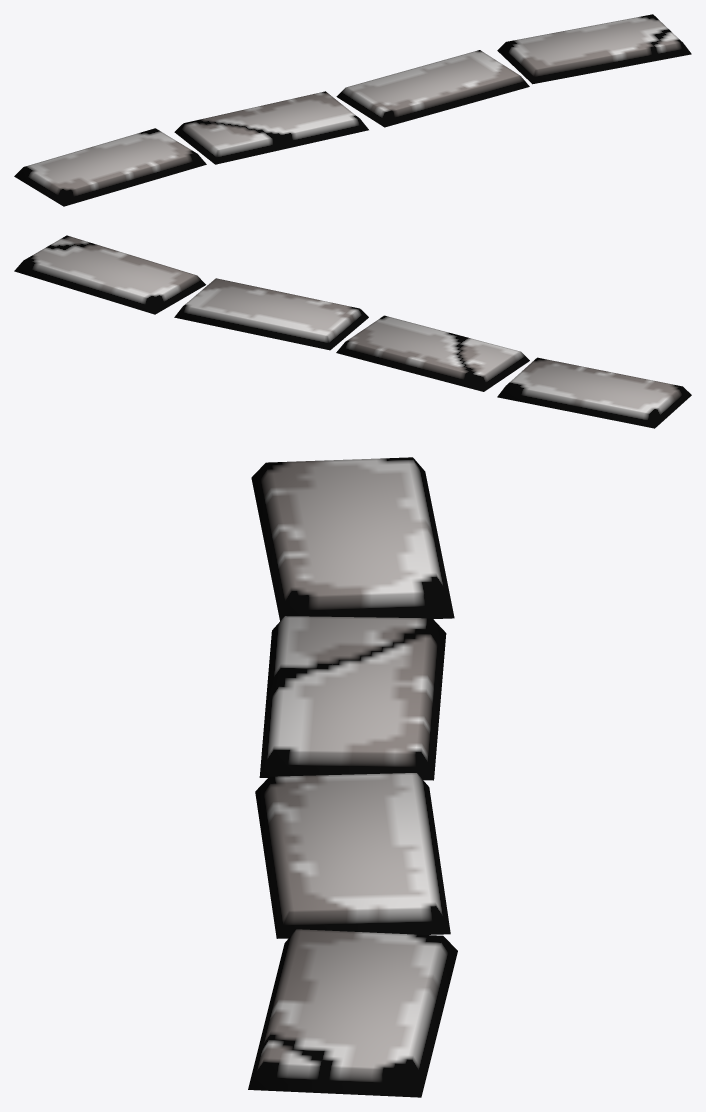
File: deco_winter_groundTilesEdgeLong.FBX
3 views of the same model, one above another, from view 1: azimuth 30°, elevation 25°; view 2: azimuth 150°, elevation 25°; view 3: azimuth 270°, elevation 25° (orthographic). The views are drawn at different scales.
Visible parts, largest first — view 1: deco_winter_groundTilesEdgeLong; view 2: deco_winter_groundTilesEdgeLong; view 3: deco_winter_groundTilesEdgeLong.
Boxes of the visible parts, box(x1,y1,x2,y2) form: deco_winter_groundTilesEdgeLong: box(14, 14, 691, 206); deco_winter_groundTilesEdgeLong: box(14, 235, 691, 428); deco_winter_groundTilesEdgeLong: box(248, 457, 457, 1097).
Size of the model in its own units: 3.98 by 0.0599 by 0.5641.
Materials: 1 (1 with a texture image).
